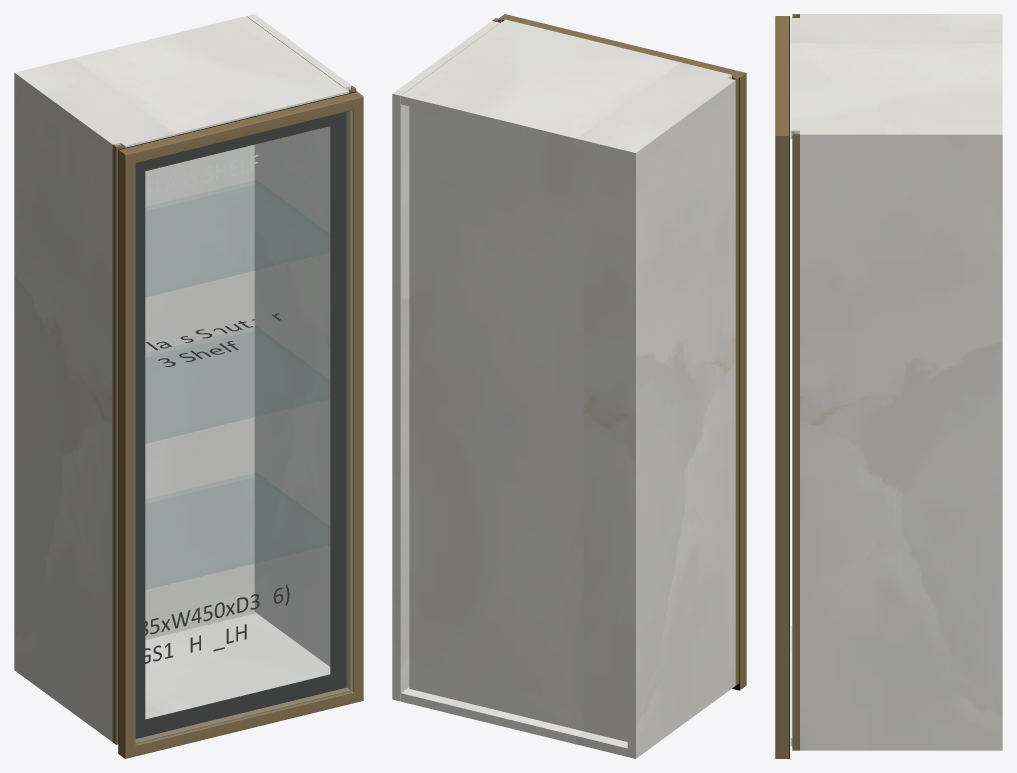
Rendered from WC-SH-NHX-GL-3SG-LHS-XXX-450-1085-336-15.glb.
3 views of the same model, side by side, from view 1: azimuth 30°, elevation 25°; view 2: azimuth 150°, elevation 25°; view 3: azimuth 270°, elevation 25° (orthographic). The views are drawn at different scales.
Visible parts, largest first — view 1: Object_node_10, TP_node_0, TP_node_2, TP_node_1, Neon 22 Profile ALU PROF NEON 20 L21XH22.5MM 3MTR S2/405 SEC (×4), TP, Object_node_12, TP_node, Object_node_14, 2D text_node, 2D text, 2D text_node_1; view 2: TP_node_2, TP_node_0, TP, TP_node_1, Neon 22 Profile ALU PROF NEON 20 L21XH22.5MM 3MTR S2/405 SEC (×2), TP_node, Object_node_14, Object_node_12; view 3: TP_node_1, TP, Neon 22 Profile ALU PROF NEON 20 L21XH22.5MM 3MTR S2/405 SEC (×2), Object_node_20, TP_node_0, Object_node_12.
Part boxes in pixels (x1,y1,x2,y2): Object_node_10: (136, 110, 352, 744); TP_node_0: (14, 70, 120, 741); TP_node_2: (145, 144, 254, 639); TP_node_1: (246, 14, 352, 666); Neon 22 Profile ALU PROF NEON 20 L21XH22.5MM 3MTR S2/405 SEC (×4): (119, 92, 363, 758); TP: (23, 16, 348, 148); Object_node_12: (118, 91, 356, 753); TP_node: (145, 612, 330, 719); Object_node_14: (112, 144, 122, 744); 2D text_node: (145, 585, 289, 635); 2D text: (146, 313, 280, 366); 2D text_node_1: (145, 155, 258, 196); TP_node_2: (409, 106, 627, 741); TP_node_0: (627, 78, 735, 758); TP: (401, 19, 731, 159); TP_node_1: (392, 21, 499, 701); Neon 22 Profile ALU PROF NEON 20 L21XH22.5MM 3MTR S2/405 SEC (×2): (499, 14, 746, 689); TP_node: (401, 687, 627, 756); Object_node_14: (732, 76, 739, 685); Object_node_12: (502, 20, 739, 690); TP_node_1: (800, 130, 1002, 750); TP: (790, 18, 1002, 138); Neon 22 Profile ALU PROF NEON 20 L21XH22.5MM 3MTR S2/405 SEC (×2): (775, 16, 789, 758); Object_node_20: (792, 131, 799, 750); TP_node_0: (800, 14, 1002, 17); Object_node_12: (789, 16, 789, 758).
Size of what is drawn, in the model's own units: 0.45 by 1.09 by 0.358.
7 materials, 1 textured.
